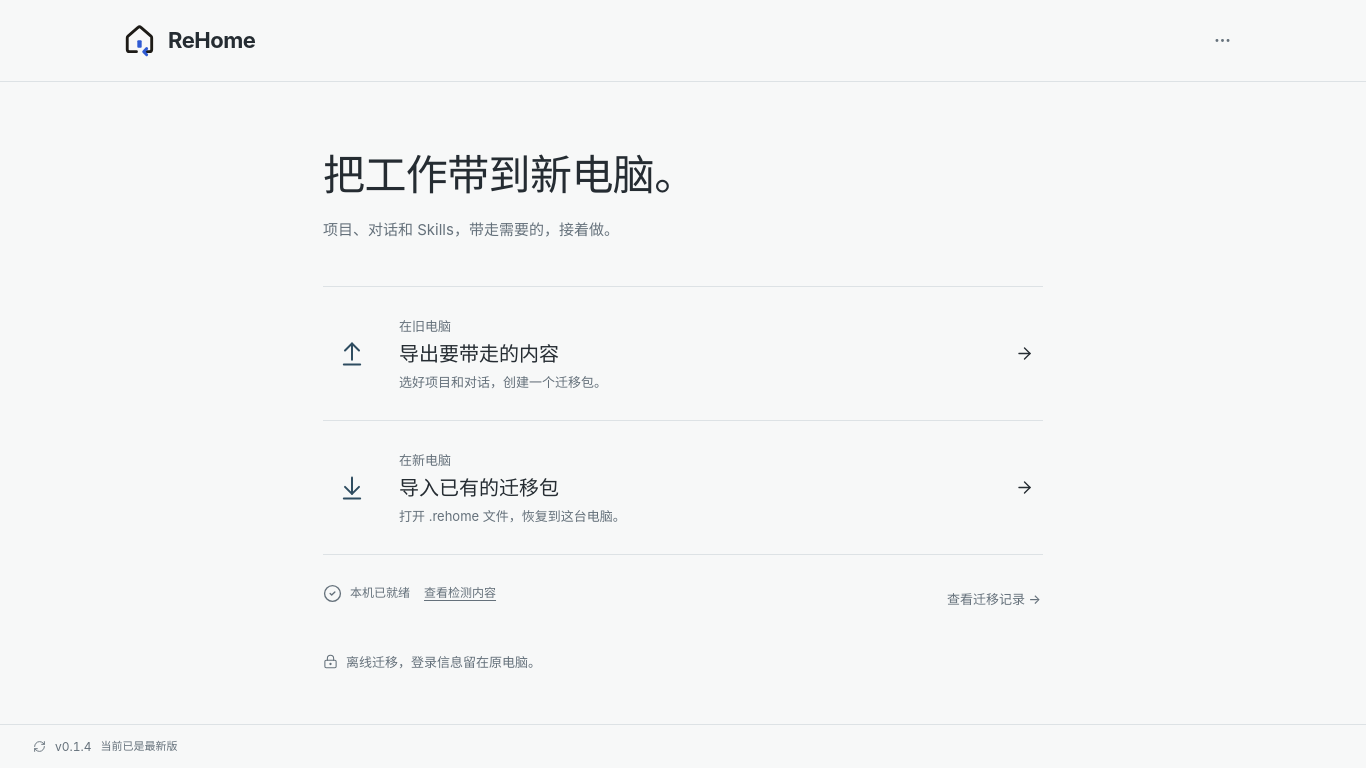
ReHome Desktop workflows › expands a project without selecting its files
Click the button with aria-label "前往导出": x=425, y=326 323,288 -> 1043,422
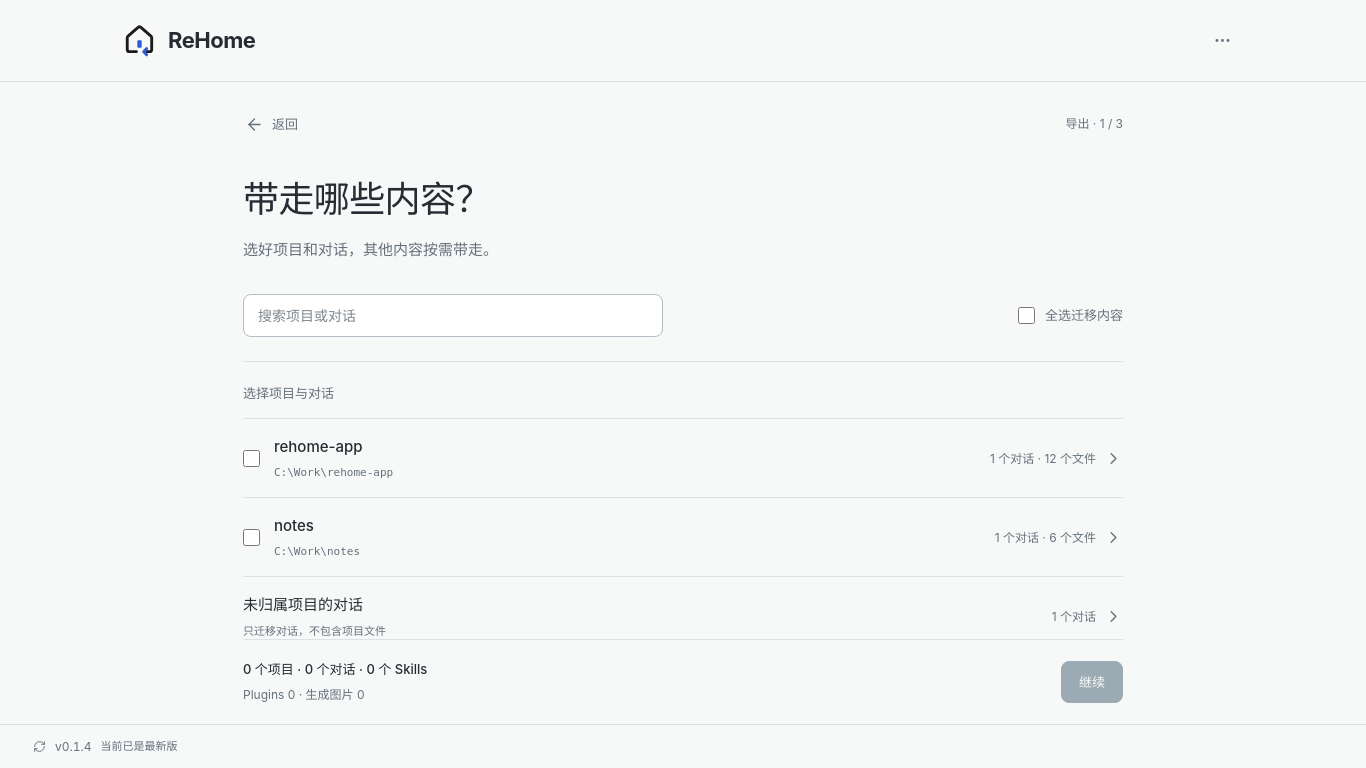
Check: the checkbox named "选择项目 rehome-app" is shown, box 243,450 -> 260,467
Click the button with aria-label "展开项目 rehome-app": x=1052, y=458 982,438 -> 1123,480
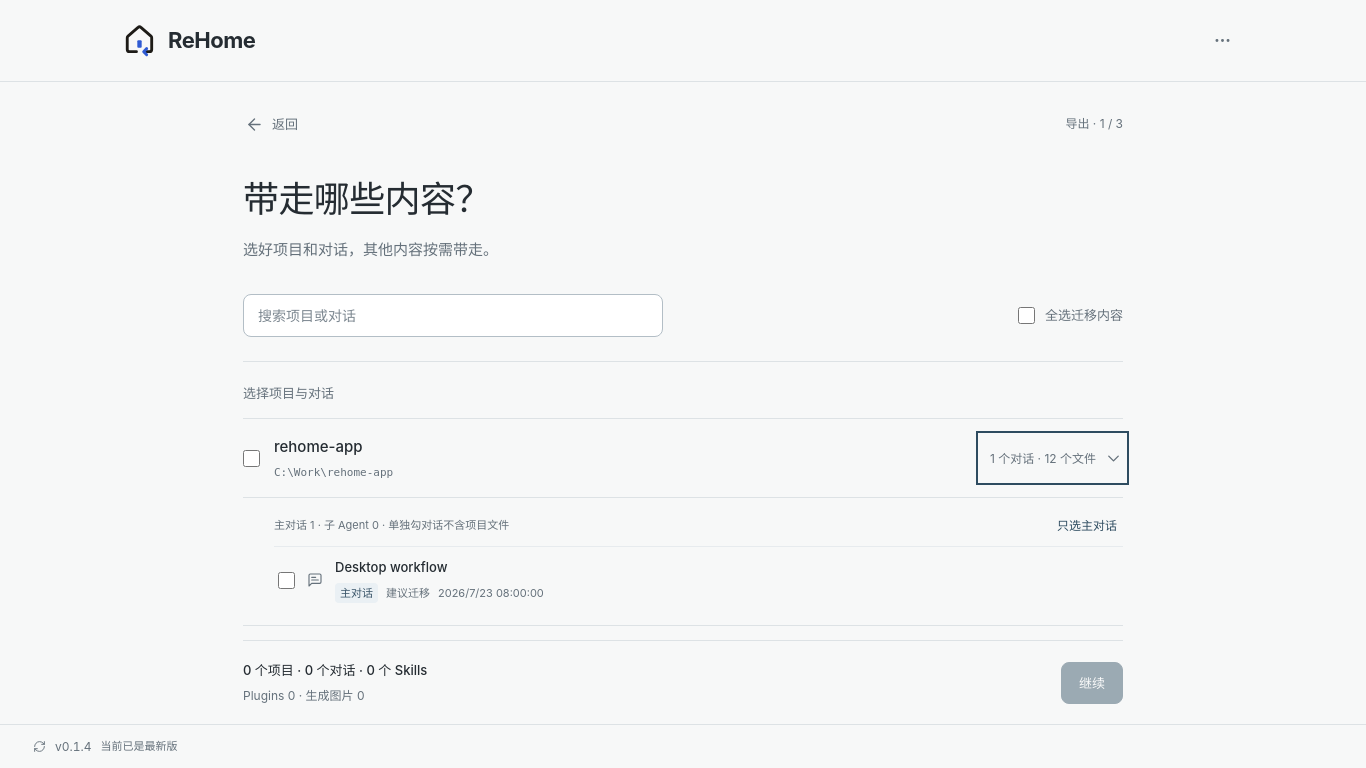
Check: the checkbox named "选择项目 rehome-app" is not checked, box 243,450 -> 260,467
Check: the checkbox named "选择对话 Desktop workflow" is shown, box 278,572 -> 295,589
